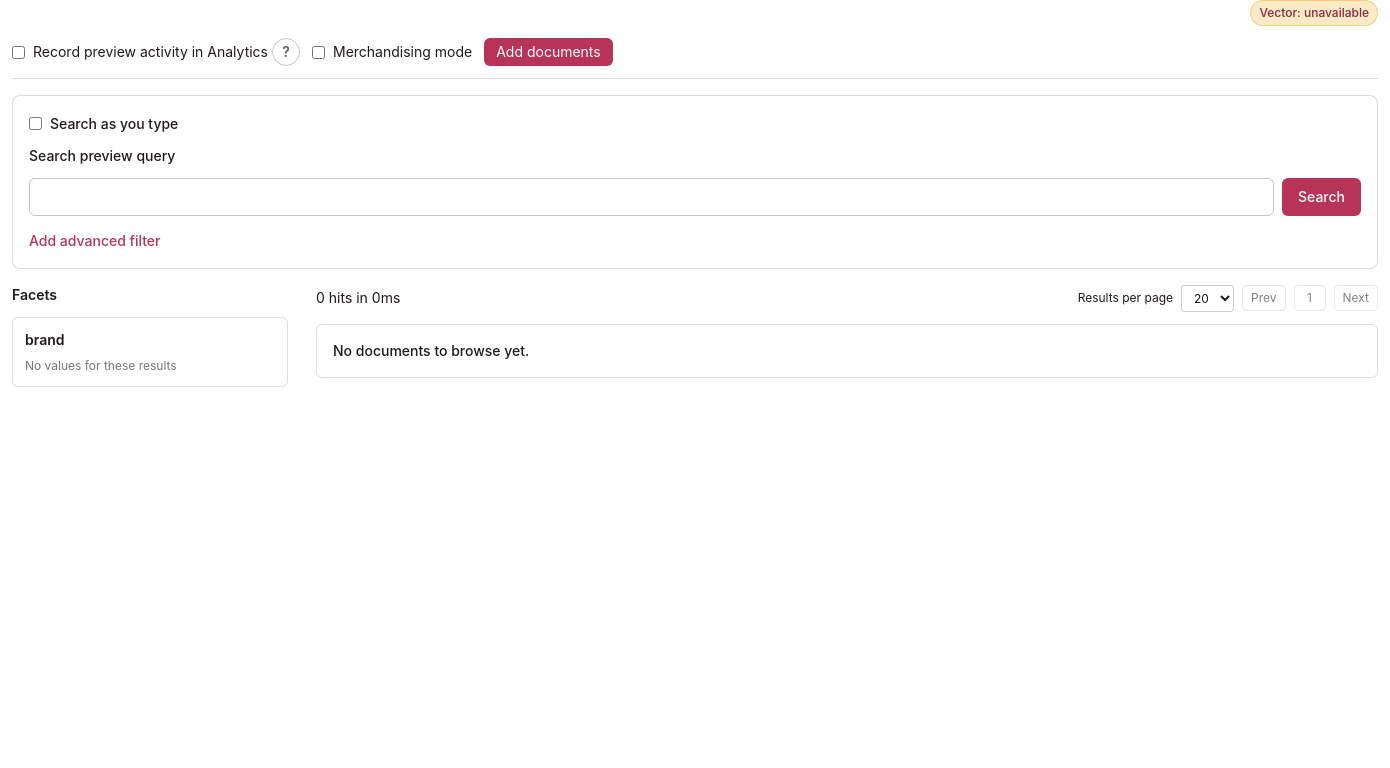
InstantSearch › analytics off sends false and records no preview search
This screenshot has width=1390, height=768.
Type "Rust" into the search field labelled "Search preview query" at {"x": 652, "y": 196}, box [29, 178, 1274, 216]
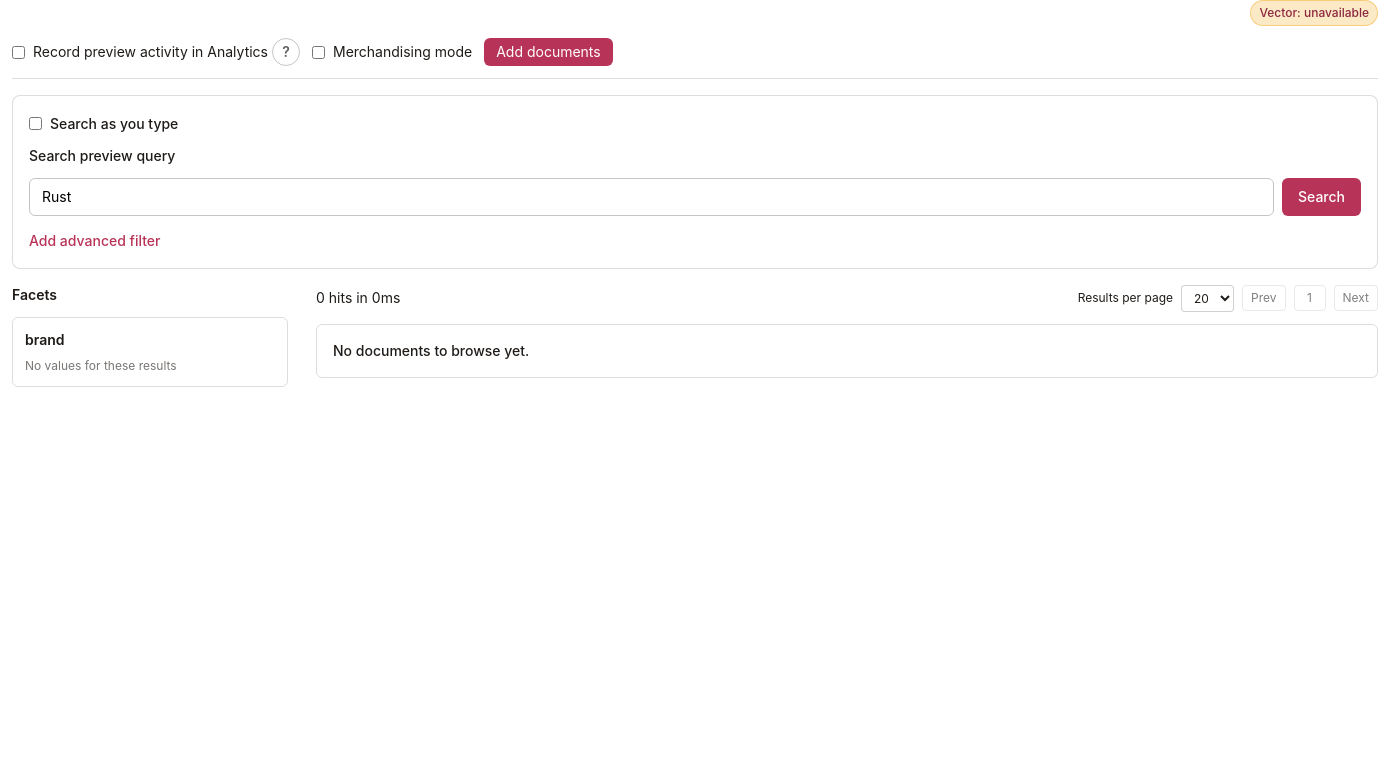
Press Enter in the search field labelled "Search preview query", box [29, 178, 1274, 216]
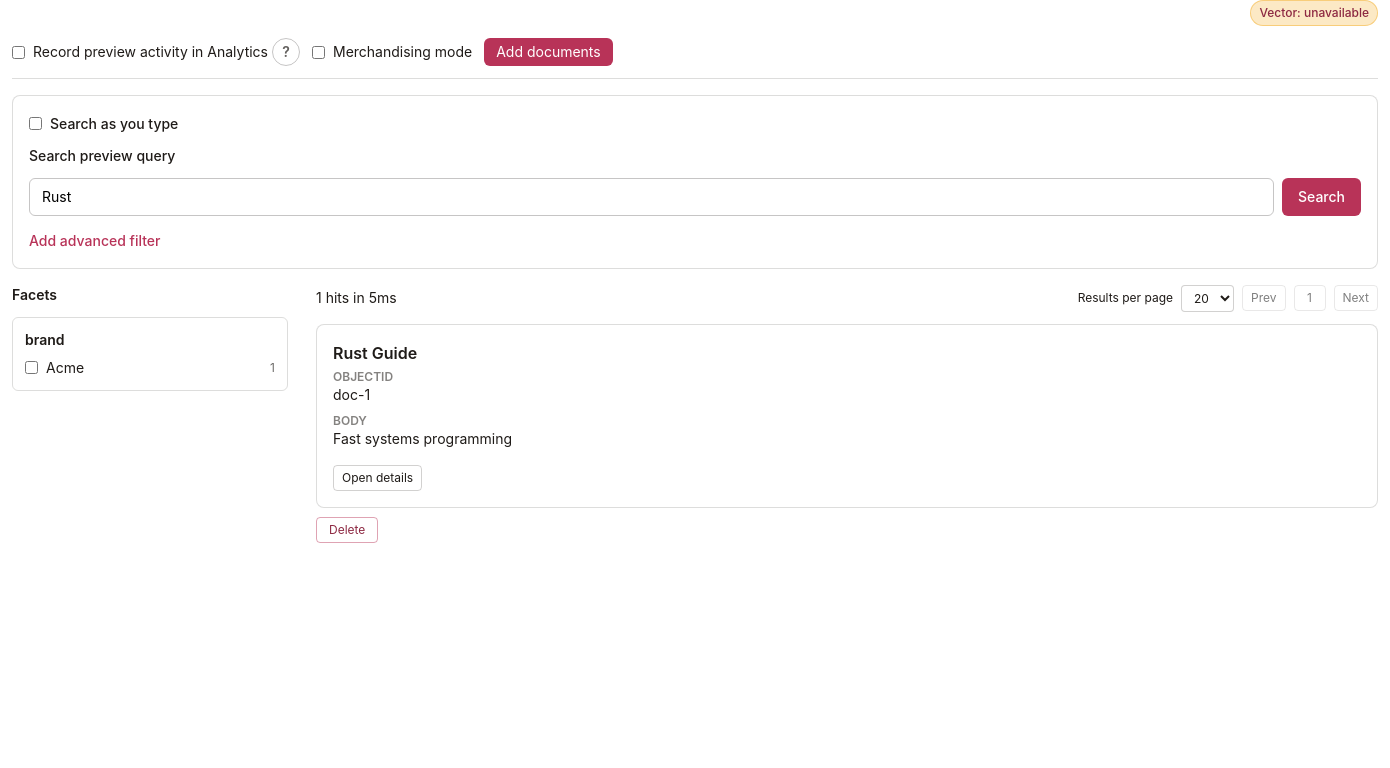
expect the text "Rust Guide" is shown: met, box [333, 342, 417, 362]
